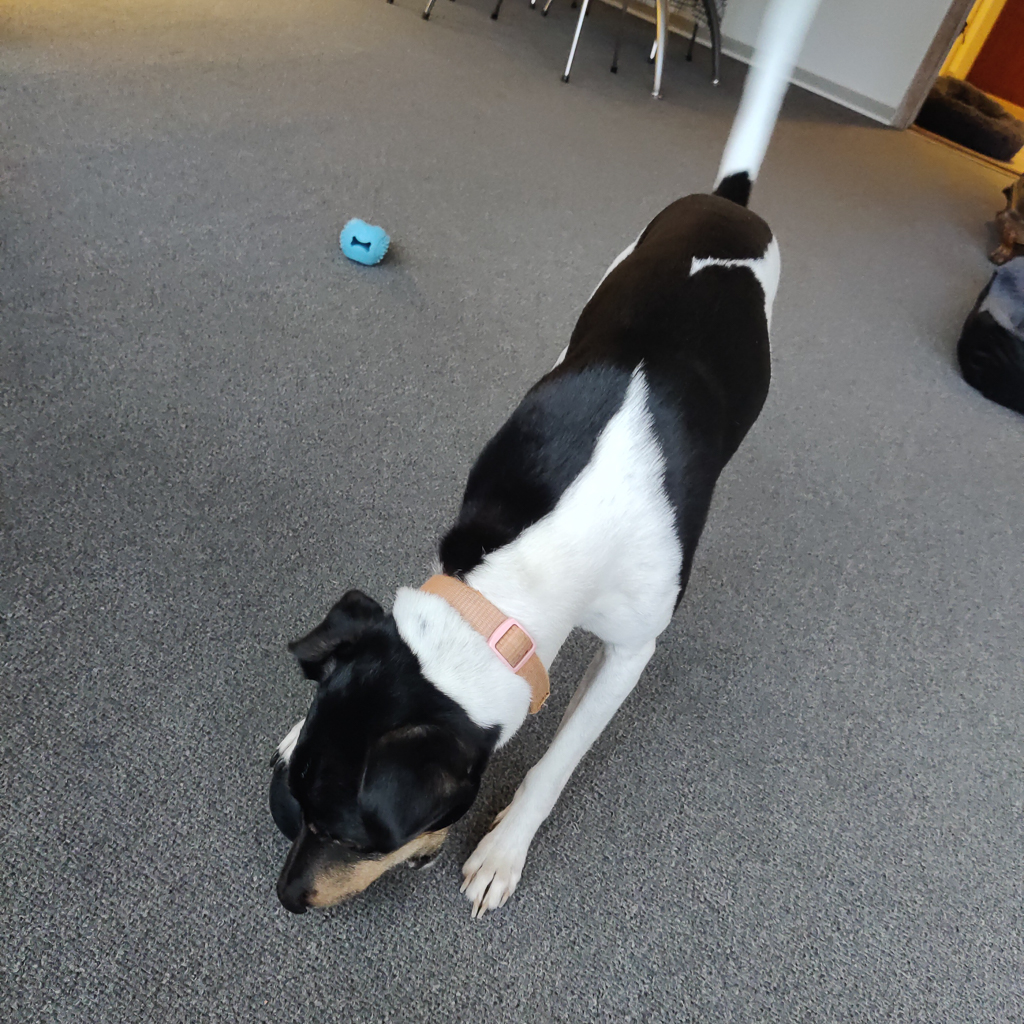Dog: (224, 0, 843, 964)
